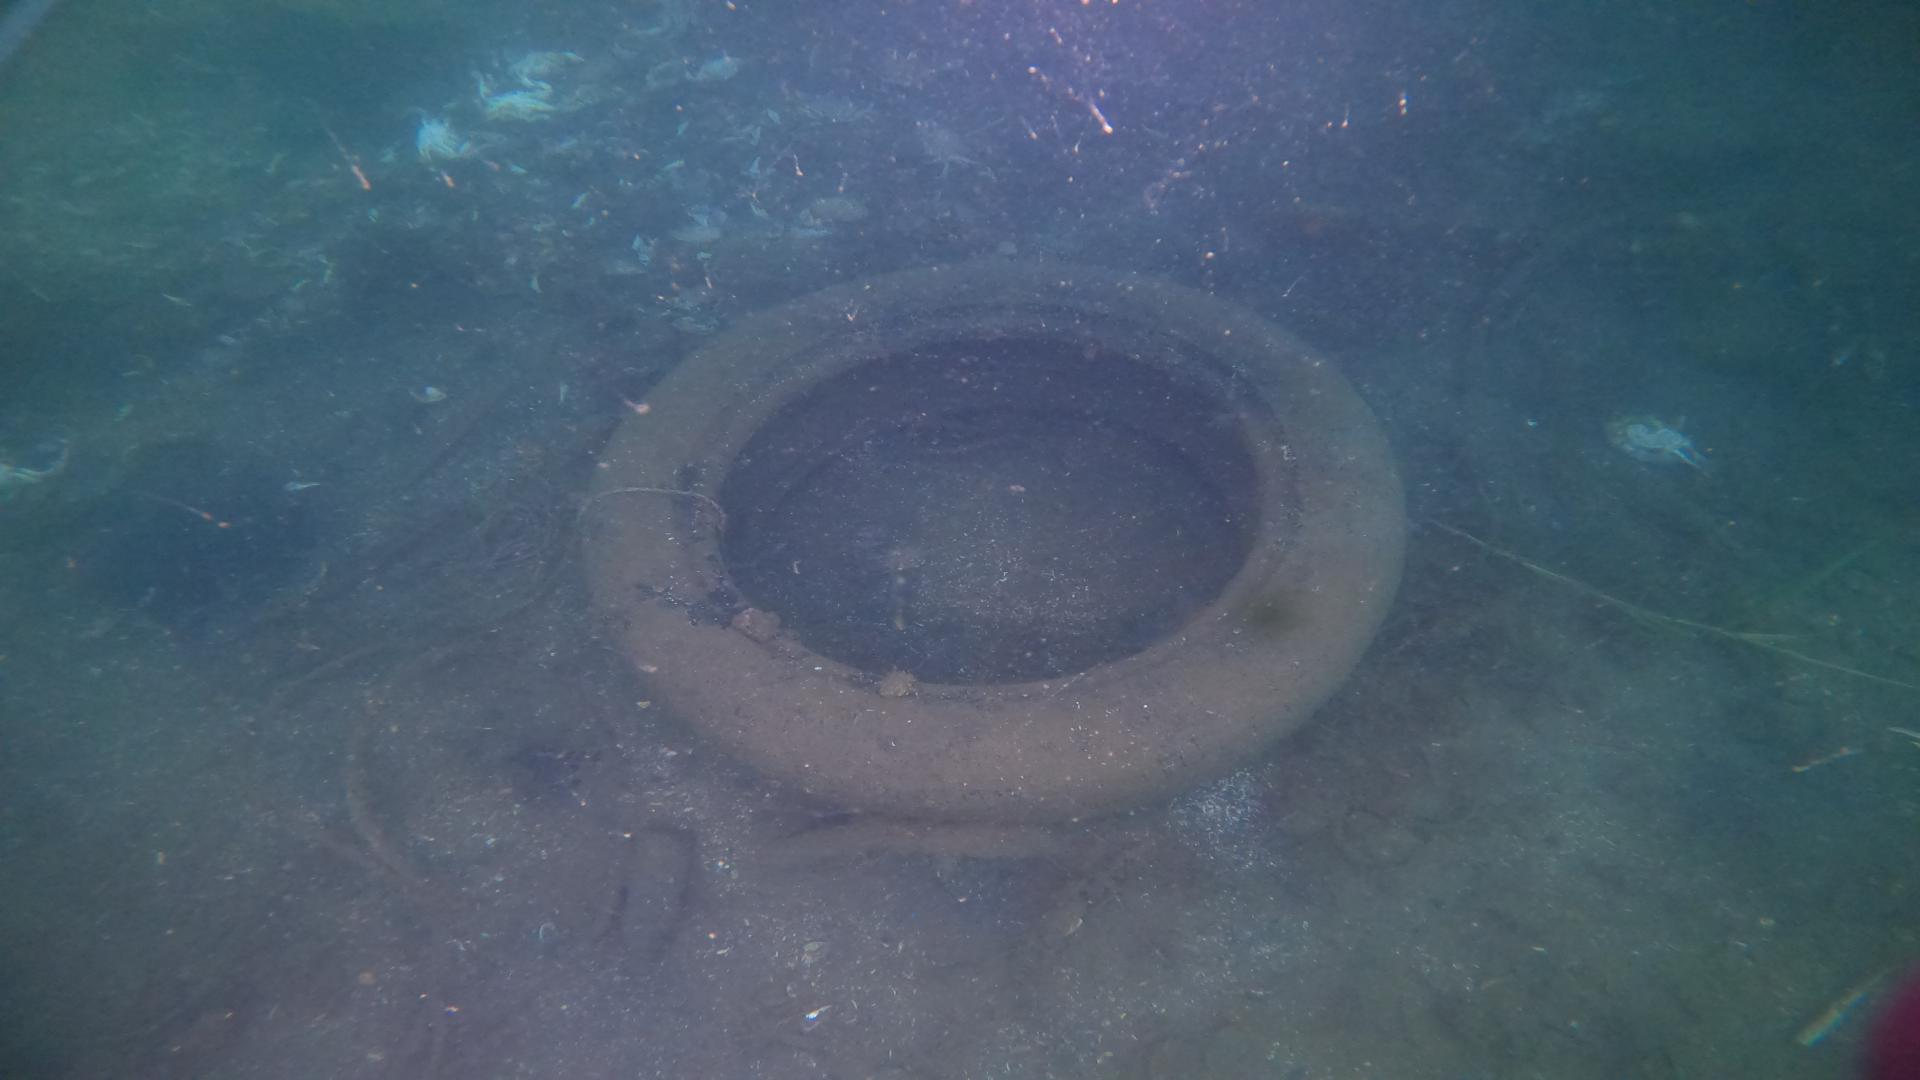tire: (580, 256, 1406, 828)
